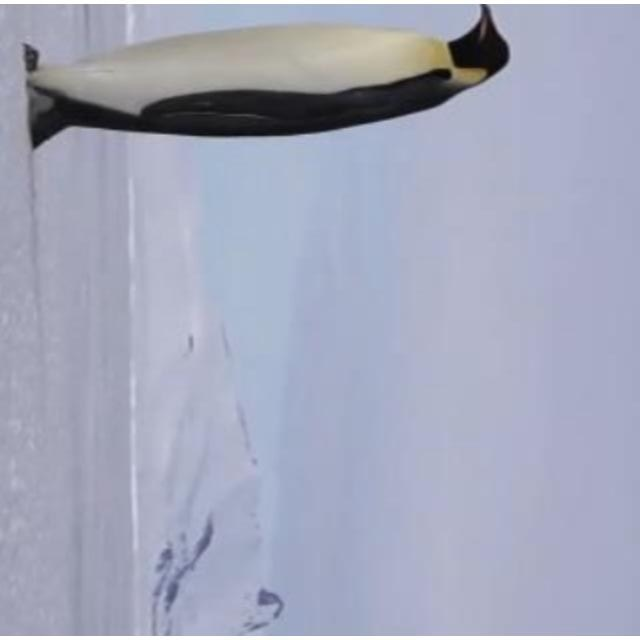penguin: (22, 6, 510, 151)
